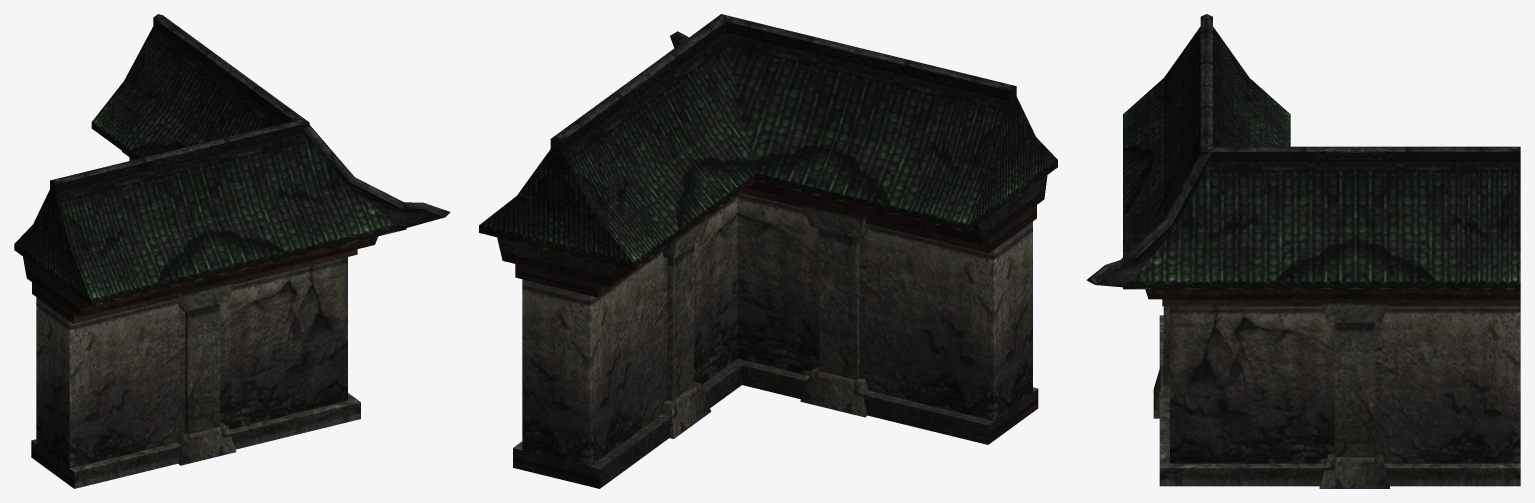
File: c1-038-wall-corner_01.glb
The picture shows the model from 3 angles, left to right: view 1: azimuth 30°, elevation 25°; view 2: azimuth 150°, elevation 25°; view 3: azimuth 270°, elevation 25°; orthographic projection. The views are drawn at different scales.
Parts seen in each view (by area): view 1: c1-038-wall; view 2: c1-038-wall; view 3: c1-038-wall.
Boxes of the visible parts, x1,y1,x2,y2 form: c1-038-wall: (14, 14, 450, 488); c1-038-wall: (479, 14, 1057, 488); c1-038-wall: (1086, 14, 1520, 488).
Size of the model in its own units: 5.56 by 4.5 by 5.54.
Materials: 1 (1 with a texture image).
